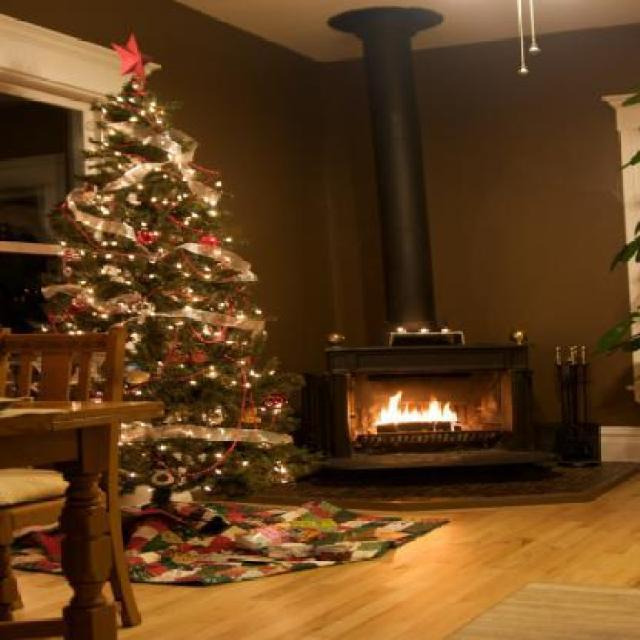Fire: (378, 391, 452, 427)
